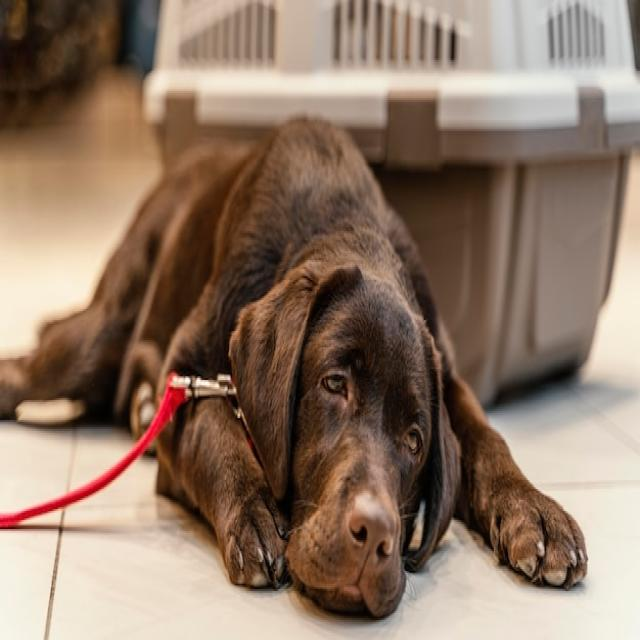Dog: (0, 116, 589, 625)
